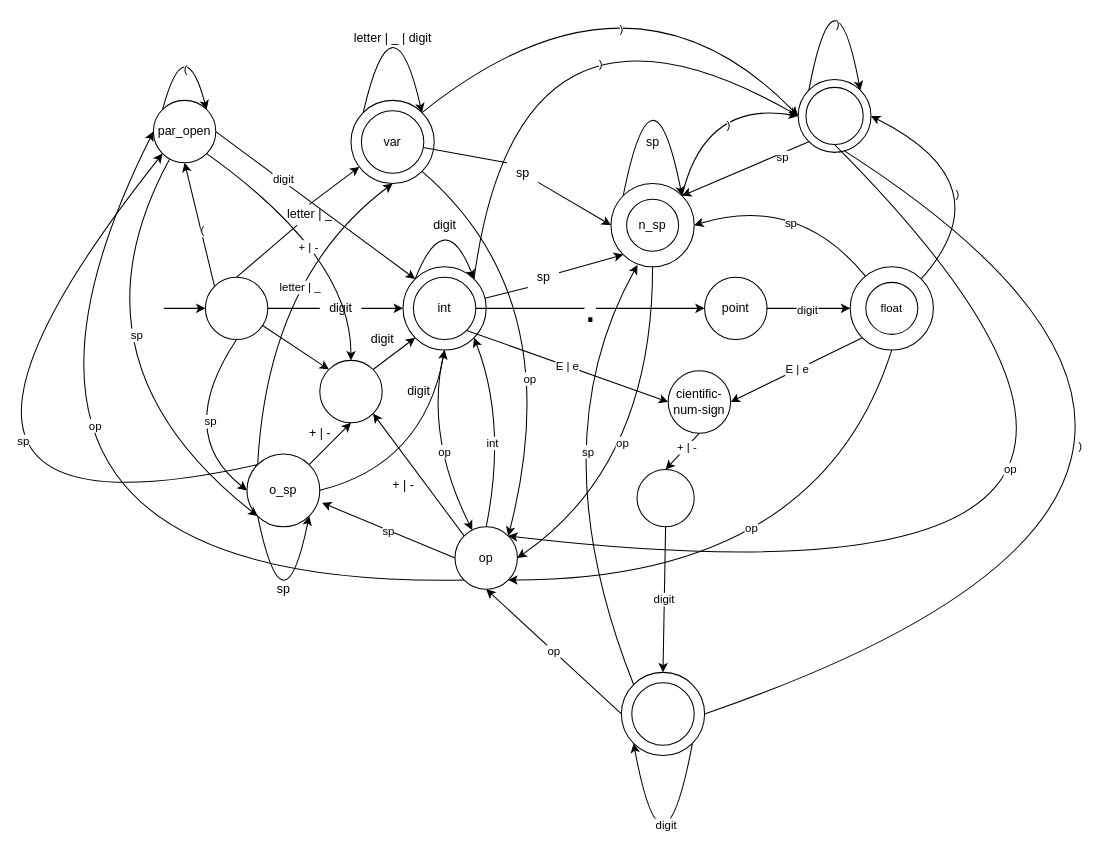
This 1100x851 diagram has some shape labels left out. The box of each missing label's shape, as (x1, y1, x2, y2) in pixels:
cientific-num: (631, 682, 694, 745)
cientific-num-sign2: (636, 469, 694, 527)
n_sign: (319, 359, 382, 423)
par_close: (805, 86, 863, 145)
Start: (204, 276, 268, 340)
